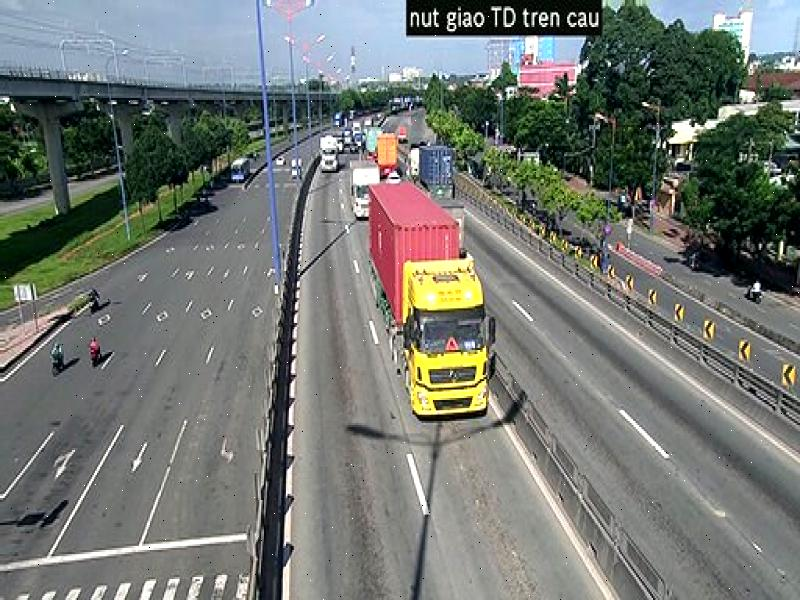truck: (364, 179, 494, 424)
